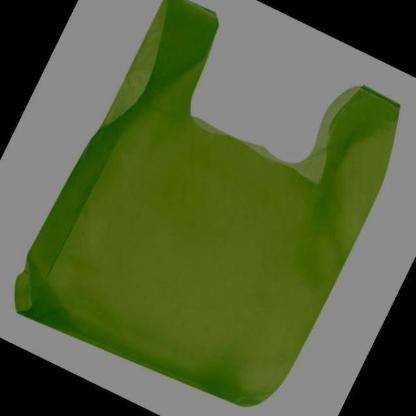Plastic Bag: (13, 1, 401, 409)
